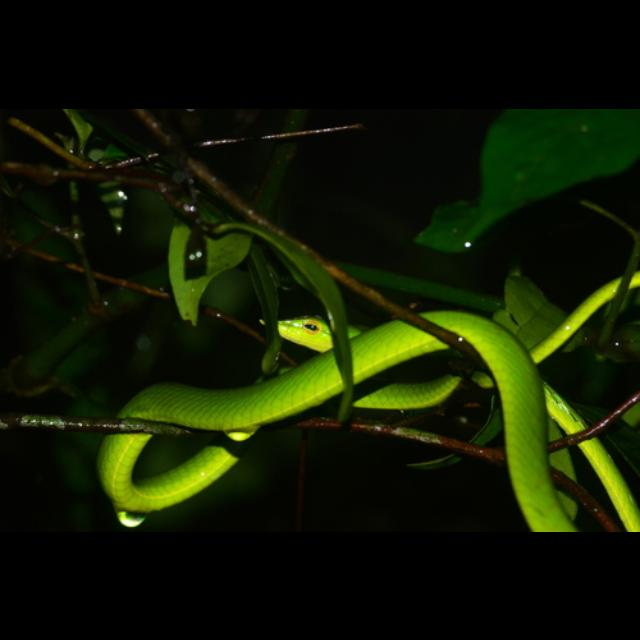snake: (92, 304, 640, 532)
